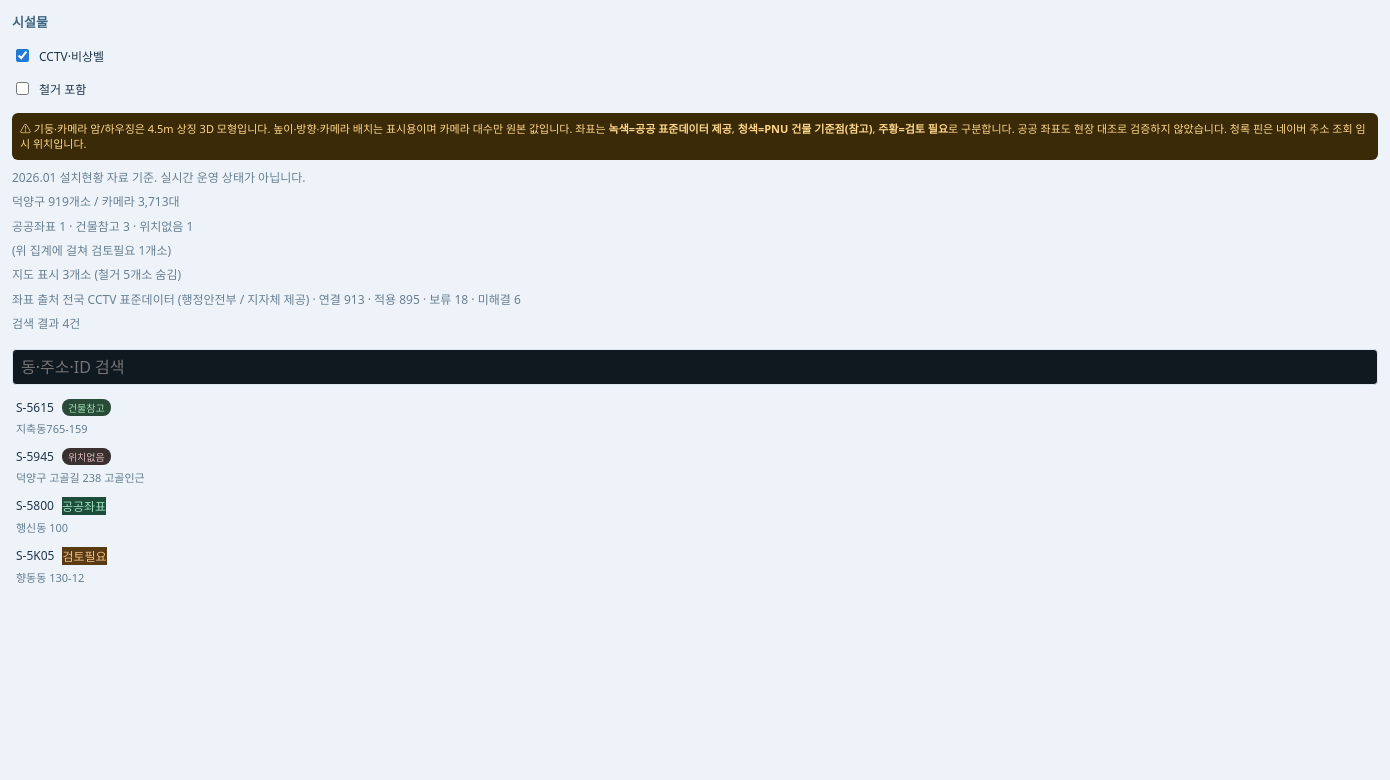
Test: FacilitiesPanel › separates map totals from search hits and shows 2026.01 basis
The image size is (1390, 780).
Expected: the element with test id "cctv-stats" shows "2026.01 설치현황 자료 기준", [12,169,306,186]
Expected: the element with test id "cctv-stats" shows "실시간 운영 상태가 아닙니다", [12,169,306,186]
Type "지축" into the search field named "CCTV 검색" at (695, 366), box [12,348,1378,384]
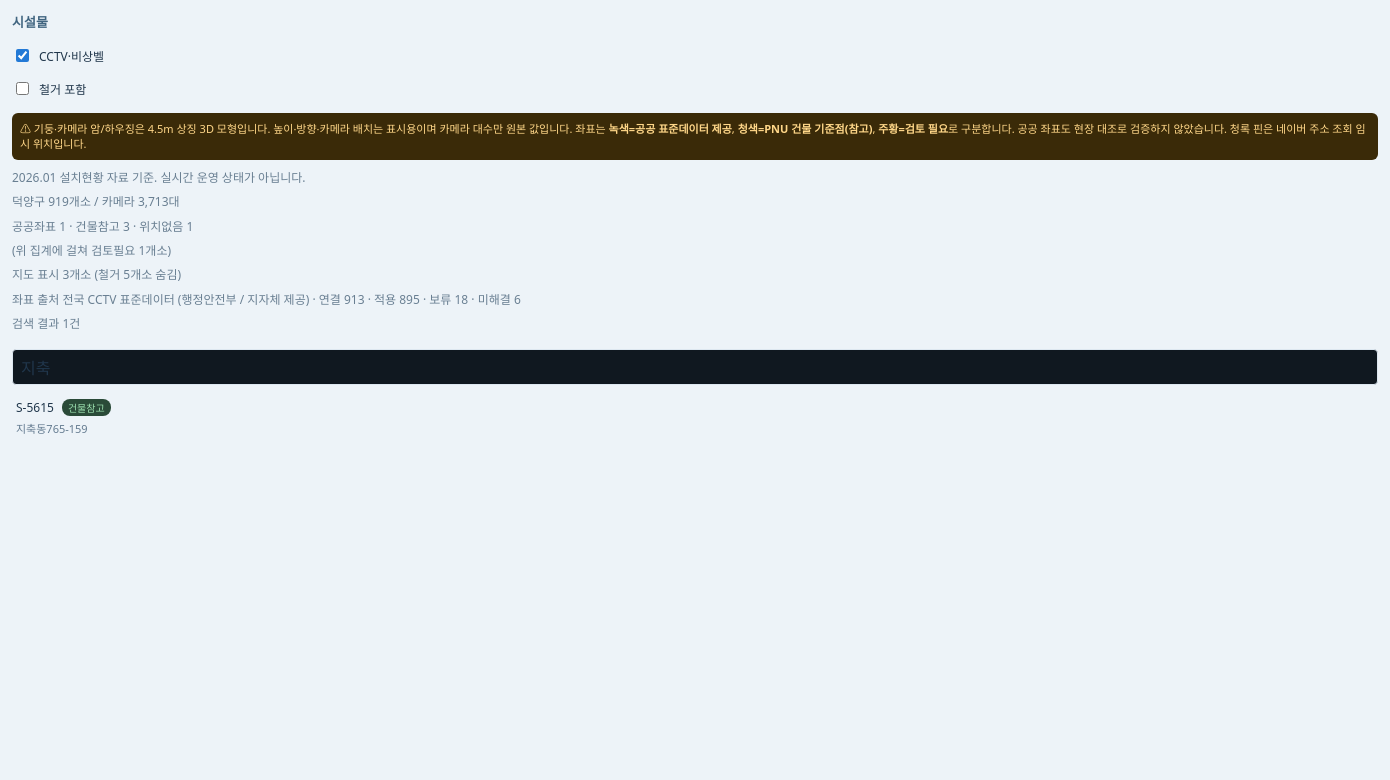
Expected: the element with test id "cctv-stats" shows "검색 결과 1건", [12,169,521,332]
